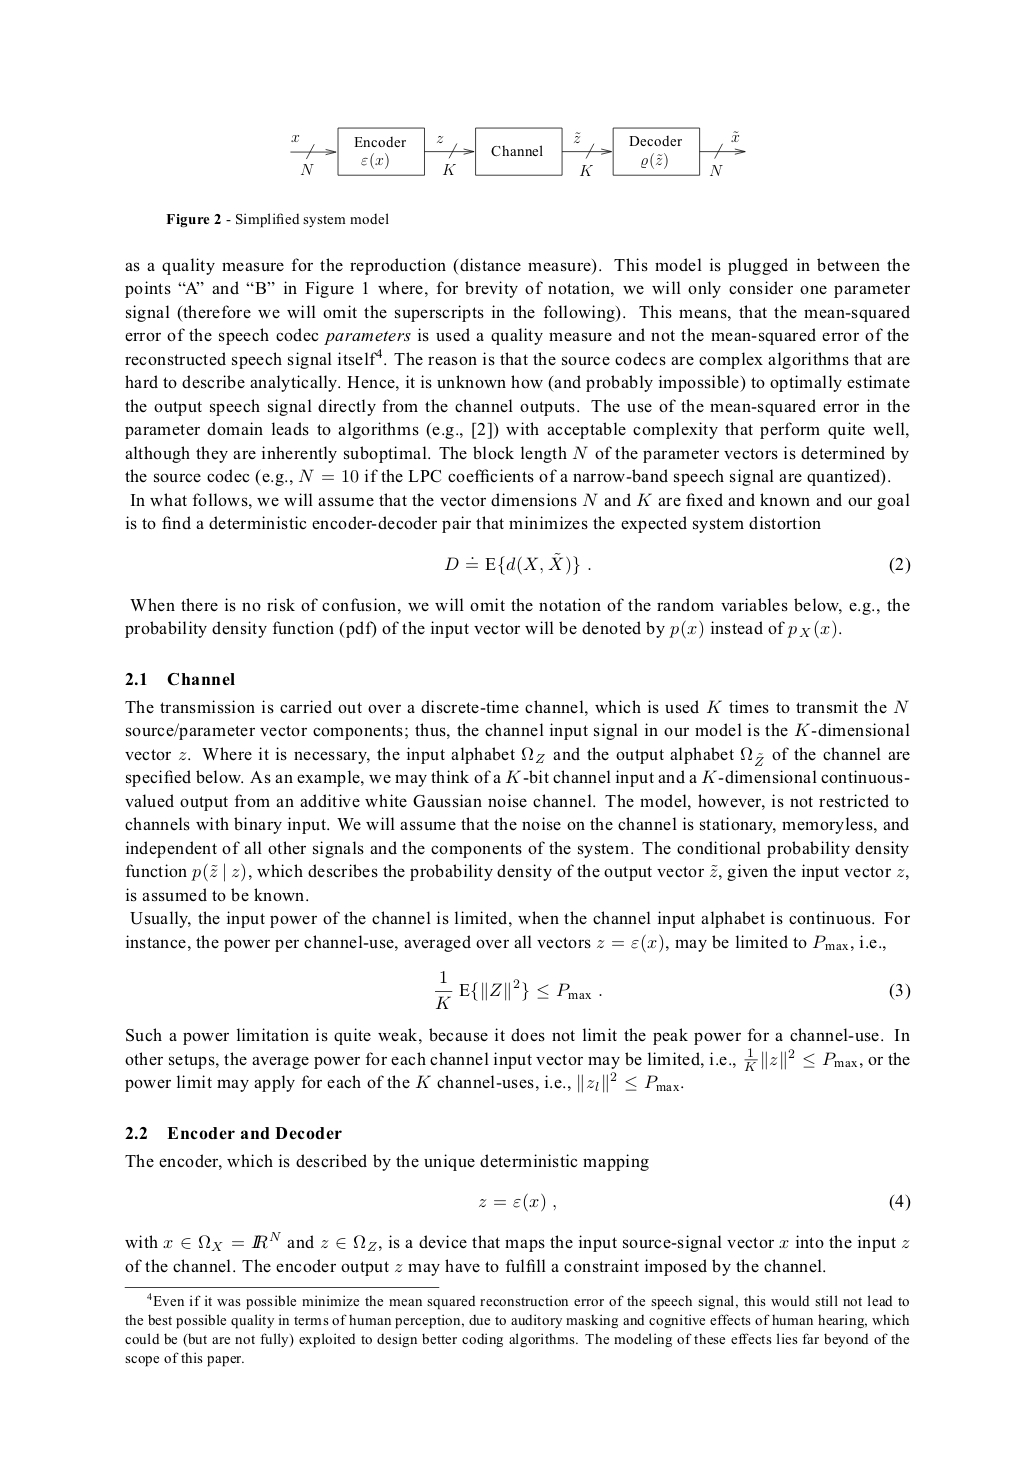figure: (290, 126, 745, 176)
formula: (435, 970, 910, 1009), (444, 555, 910, 574), (479, 1192, 910, 1212)
